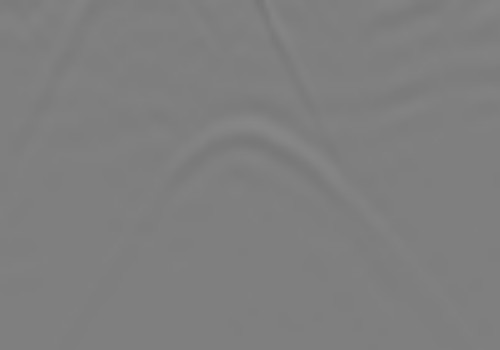hyperbola: (116, 100, 418, 285)
